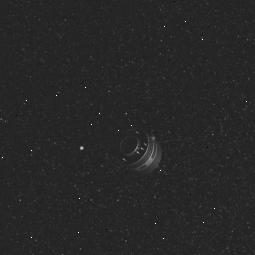double_start: (108, 117, 182, 192)
